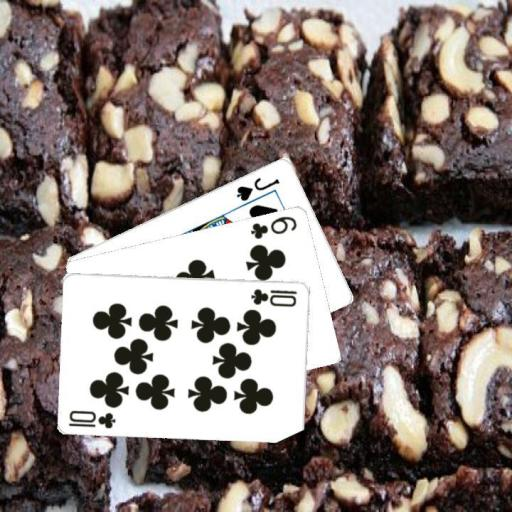10C: (66, 407, 118, 430), (248, 285, 299, 308)
6C: (248, 213, 299, 240)
JS: (233, 174, 281, 203)
